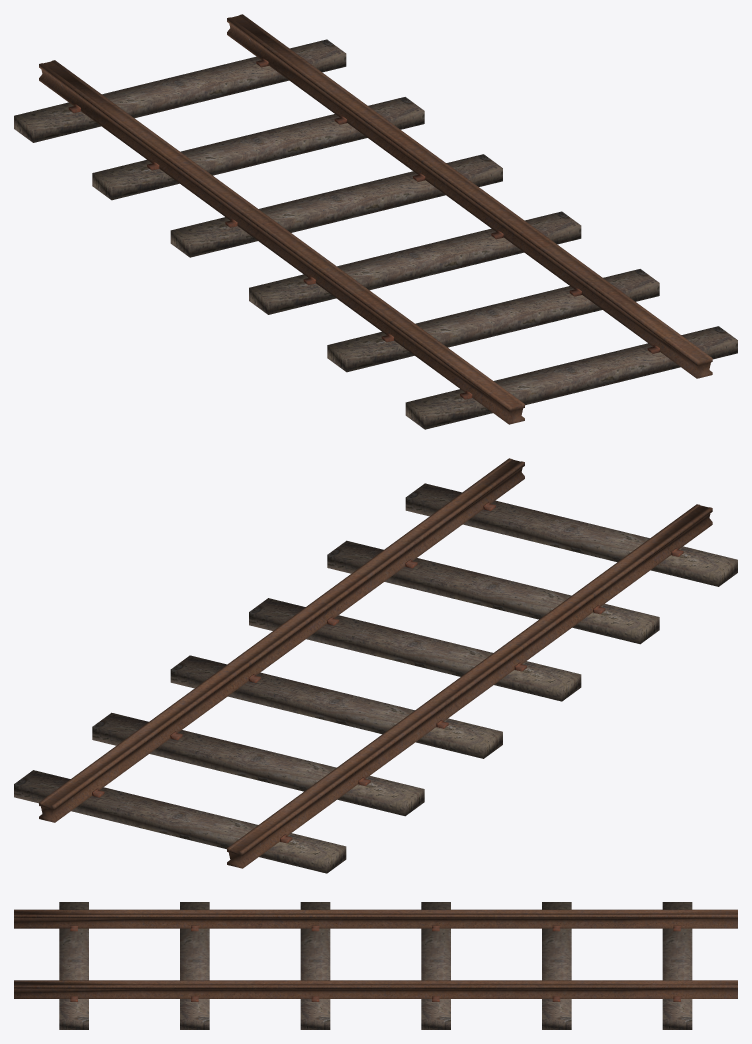
Rendered from SchienenHeil.fbx.
3 renders of one model, top to bottom at view 1: azimuth 30°, elevation 25°; view 2: azimuth 150°, elevation 25°; view 3: azimuth 270°, elevation 25°, orthographic. The views are drawn at different scales.
Parts seen in each view (by area): view 1: SchienenHeil; view 2: SchienenHeil; view 3: SchienenHeil.
Part boxes in pixels (bbox=[...]): SchienenHeil: bbox=[14, 14, 737, 429]; SchienenHeil: bbox=[14, 458, 737, 873]; SchienenHeil: bbox=[14, 902, 737, 1029].
Bounding box in the file's own units: 184 × 16.82 × 478.
